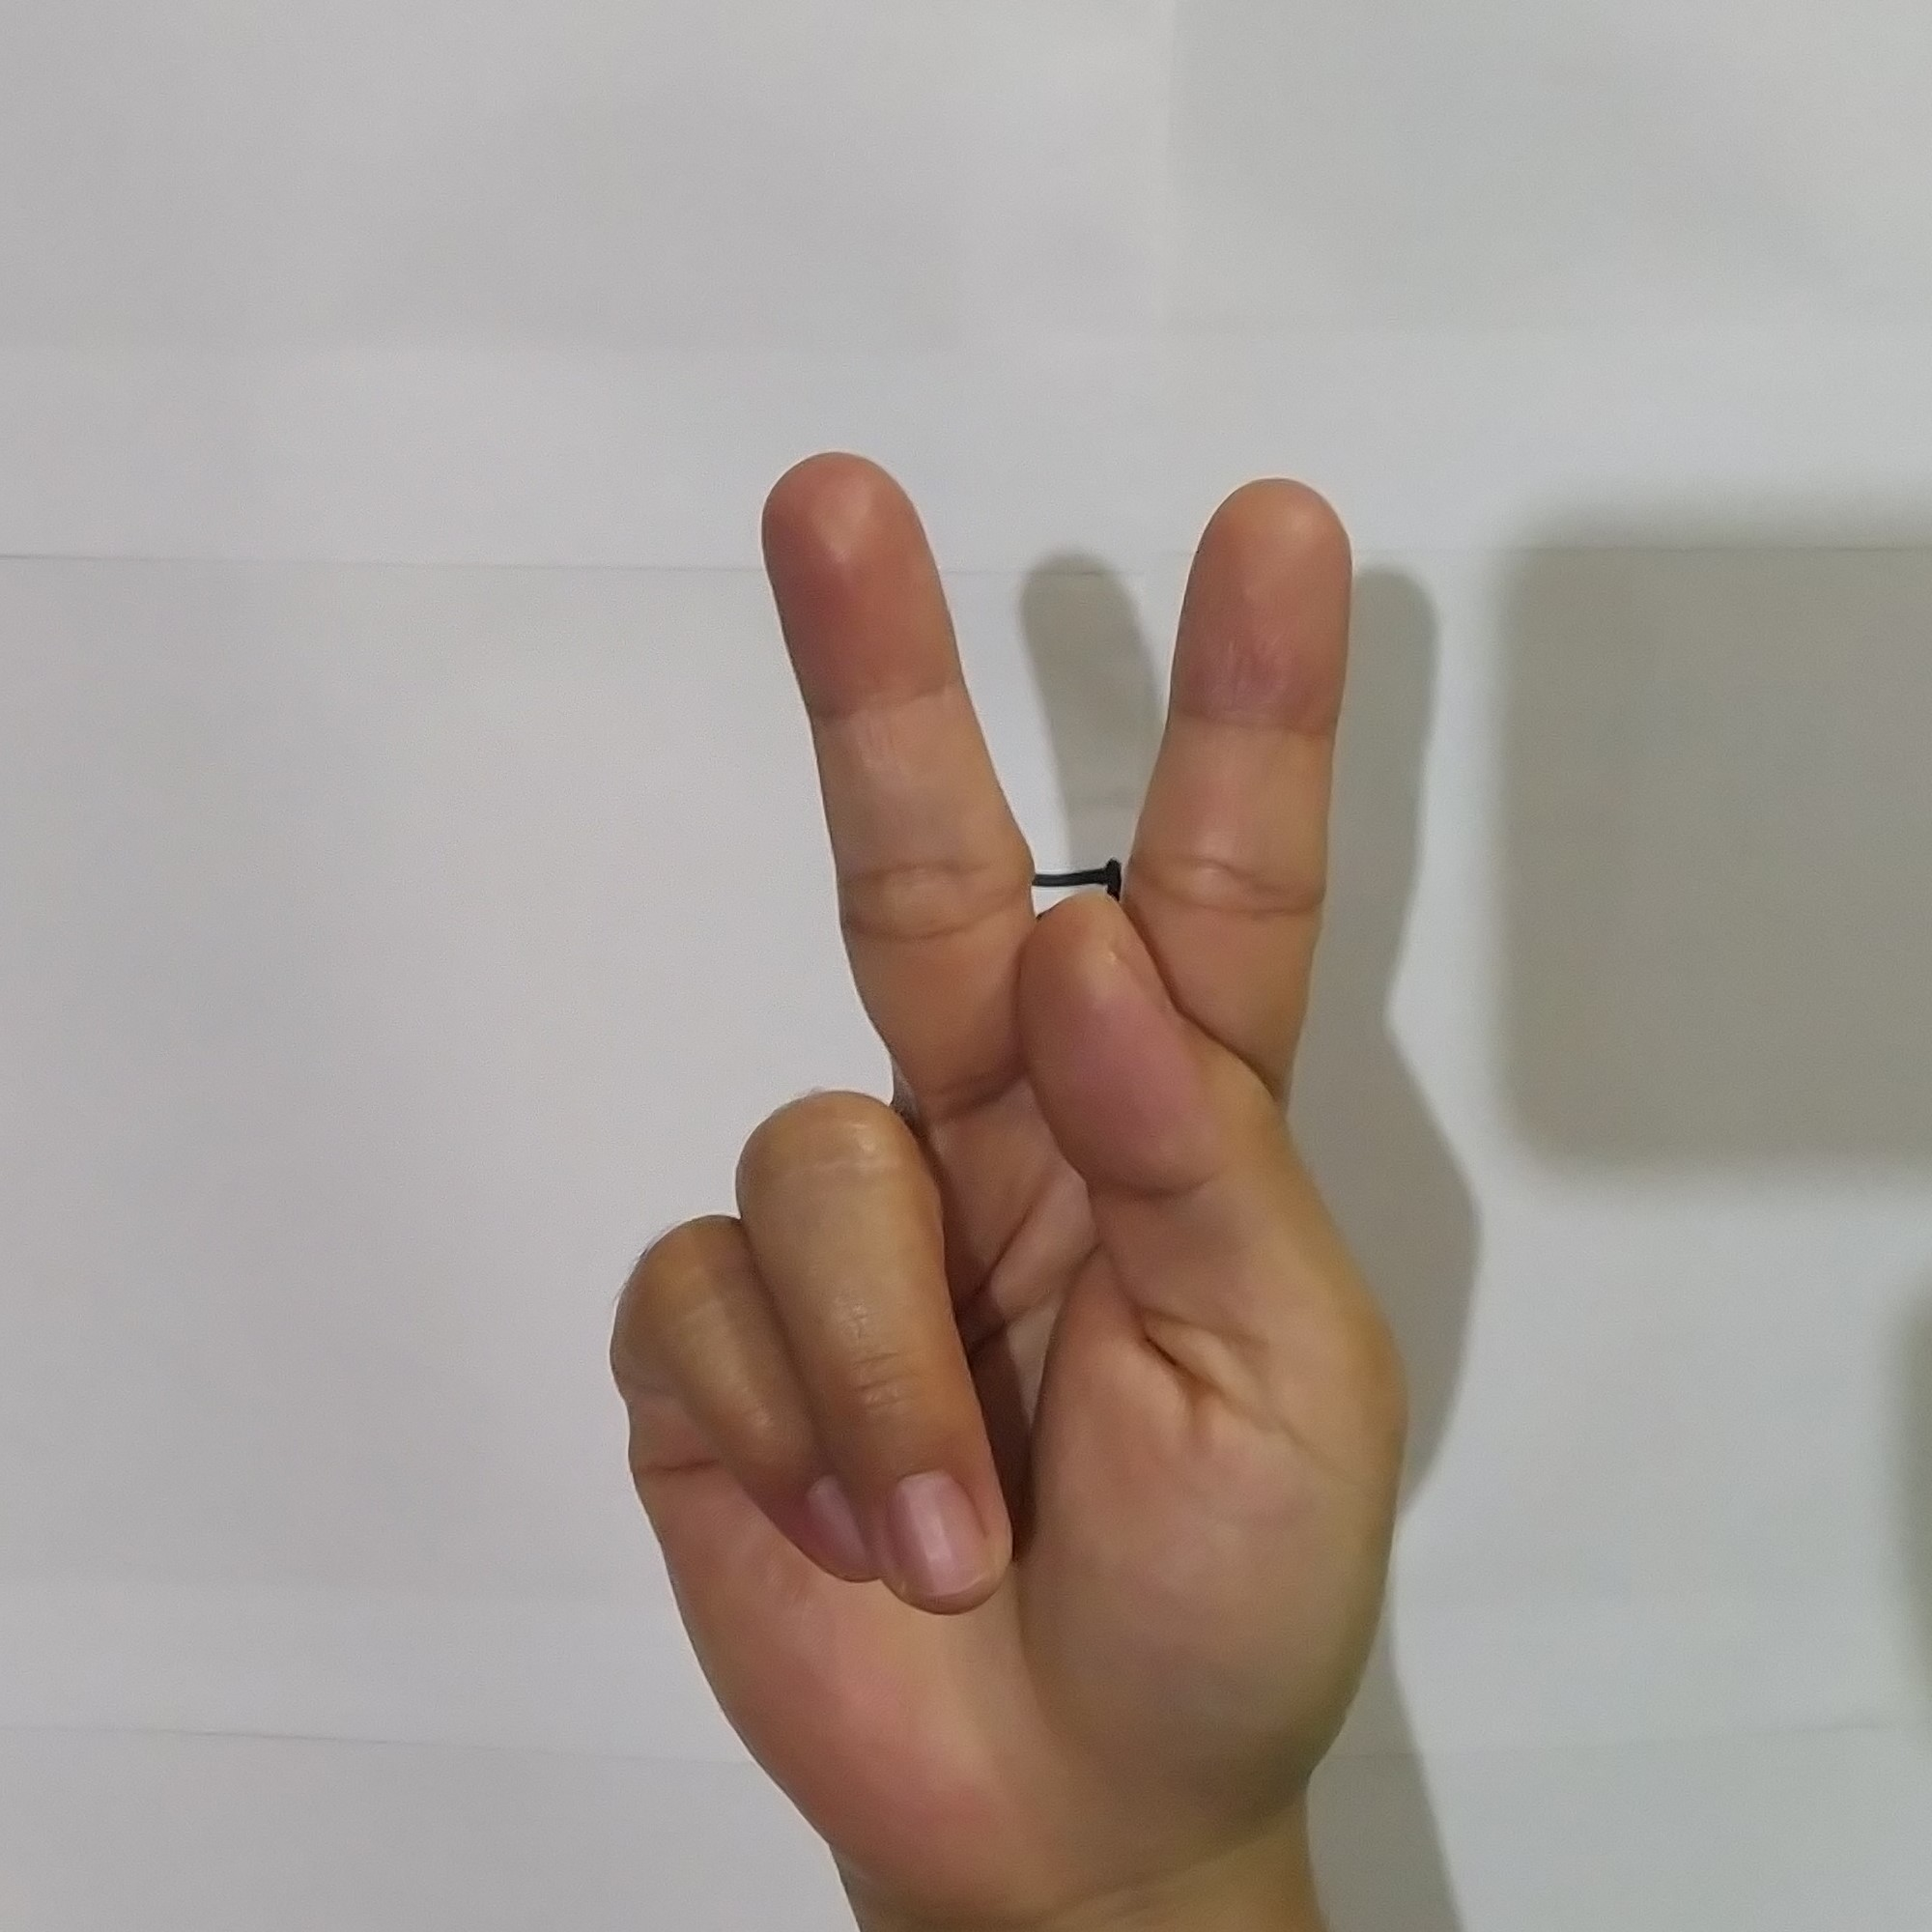K: (587, 419, 1437, 1865)
